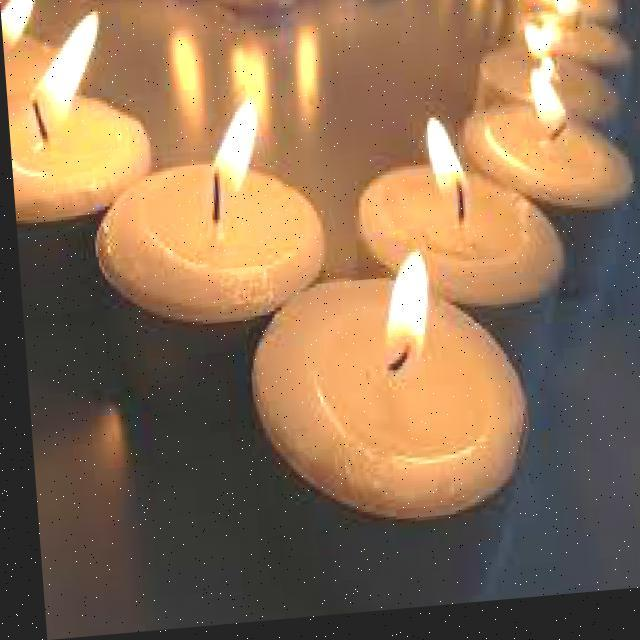Fire: (18, 3, 110, 151), (367, 248, 437, 384), (197, 98, 271, 225), (411, 109, 482, 229), (522, 70, 566, 152)
